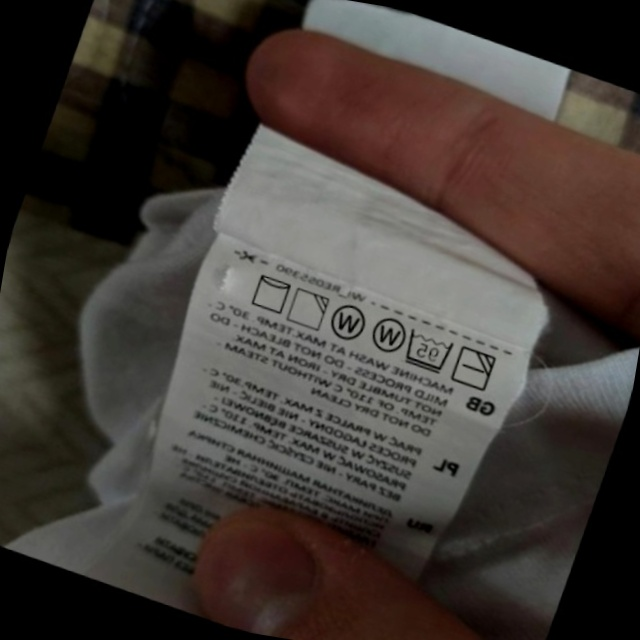95C: (395, 321, 461, 381)
dry_flat_in_shade: (445, 338, 503, 398)
line_dry: (242, 265, 299, 321)
shade_dry: (280, 281, 336, 337)
wet_clean: (361, 305, 415, 362), (321, 295, 375, 351)
